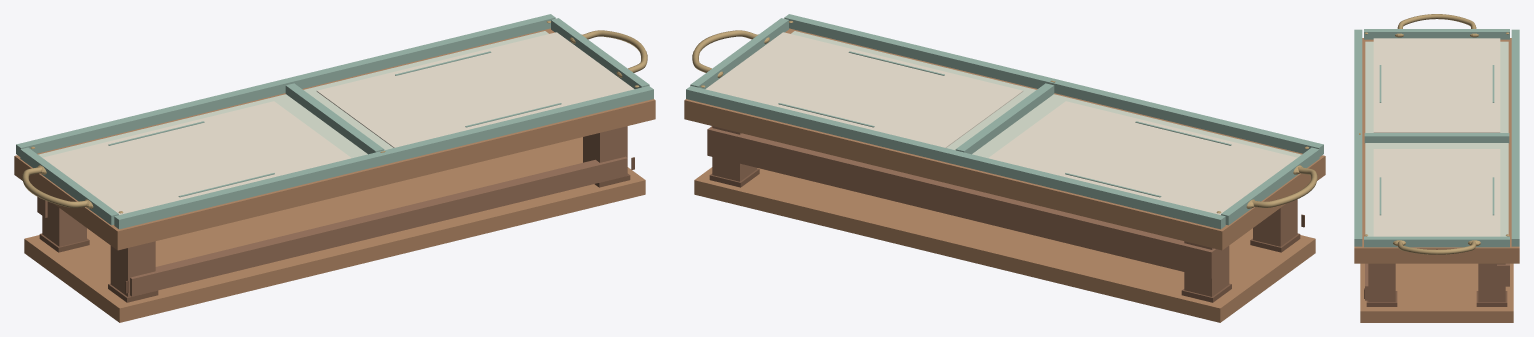
Rendered from park_cafe_combo_pickup_tray.glb.
The picture shows the model from 3 angles, left to right: view 1: azimuth 30°, elevation 25°; view 2: azimuth 150°, elevation 25°; view 3: azimuth 270°, elevation 25°; orthographic projection. The views are drawn at different scales.
Parts seen in each view (by area): view 1: low_oak_footprint, right_empty_landing_pad, left_empty_landing_pad, wide_oak_service_top, front_low_open_crossbar, front_shallow_safety_lip, rear_shallow_safety_lip, porcelain_two_place_inset, left_front_rounded_upright, slim_middle_order_divider, left_end_lip, right_end_lip (+4 smaller); view 2: low_oak_footprint, right_empty_landing_pad, left_empty_landing_pad, continuous_rear_stiffener, wide_oak_service_top, rear_shallow_safety_lip, front_shallow_safety_lip, porcelain_two_place_inset, slim_middle_order_divider, left_end_lip, right_end_lip, left_front_rounded_upright (+4 smaller); view 3: left_empty_landing_pad, right_empty_landing_pad, low_oak_footprint, wide_oak_service_top, porcelain_two_place_inset, rear_shallow_safety_lip, front_shallow_safety_lip, right_end_lip, slim_middle_order_divider, left_end_lip, right_front_rounded_upright, right_back_rounded_upright (+6 smaller).
Part boxes in pixels (x1=…): low_oak_footprint: x1=24, y1=137, x2=645, y2=322; right_empty_landing_pad: x1=316, y1=32, x2=634, y2=147; left_empty_landing_pad: x1=42, y1=101, x2=351, y2=214; wide_oak_service_top: x1=14, y1=28, x2=655, y2=250; front_low_open_crossbar: x1=130, y1=156, x2=627, y2=296; front_shallow_safety_lip: x1=114, y1=86, x2=653, y2=229; rear_shallow_safety_lip: x1=16, y1=14, x2=555, y2=156; porcelain_two_place_inset: x1=38, y1=31, x2=548, y2=158; left_front_rounded_upright: x1=110, y1=241, x2=155, y2=296; slim_middle_order_divider: x1=285, y1=83, x2=384, y2=154; left_end_lip: x1=20, y1=147, x2=118, y2=225; right_end_lip: x1=551, y1=18, x2=649, y2=88; low_oak_footprint: x1=694, y1=167, x2=1315, y2=322; right_empty_landing_pad: x1=705, y1=32, x2=1023, y2=147; left_empty_landing_pad: x1=988, y1=101, x2=1297, y2=214; continuous_rear_stiffener: x1=707, y1=126, x2=1219, y2=278; wide_oak_service_top: x1=684, y1=28, x2=1325, y2=250; rear_shallow_safety_lip: x1=686, y1=86, x2=1225, y2=229; front_shallow_safety_lip: x1=784, y1=14, x2=1323, y2=156; porcelain_two_place_inset: x1=791, y1=31, x2=1301, y2=158; slim_middle_order_divider: x1=955, y1=83, x2=1054, y2=154; left_end_lip: x1=1221, y1=147, x2=1319, y2=225; right_end_lip: x1=690, y1=18, x2=788, y2=88; left_front_rounded_upright: x1=1253, y1=199, x2=1297, y2=246; left_empty_landing_pad: x1=1373, y1=38, x2=1500, y2=132; right_empty_landing_pad: x1=1373, y1=149, x2=1500, y2=236; low_oak_footprint: x1=1360, y1=263, x2=1513, y2=322; wide_oak_service_top: x1=1354, y1=38, x2=1519, y2=263; porcelain_two_place_inset: x1=1365, y1=41, x2=1508, y2=236; rear_shallow_safety_lip: x1=1511, y1=29, x2=1519, y2=246; front_shallow_safety_lip: x1=1354, y1=29, x2=1362, y2=246; right_end_lip: x1=1364, y1=236, x2=1509, y2=247; slim_middle_order_divider: x1=1364, y1=133, x2=1509, y2=143; left_end_lip: x1=1364, y1=29, x2=1509, y2=39; right_front_rounded_upright: x1=1368, y1=263, x2=1395, y2=302; right_back_rounded_upright: x1=1478, y1=263, x2=1505, y2=302.
Size of the model in its own units: 3.61 by 0.6215 by 1.06.
